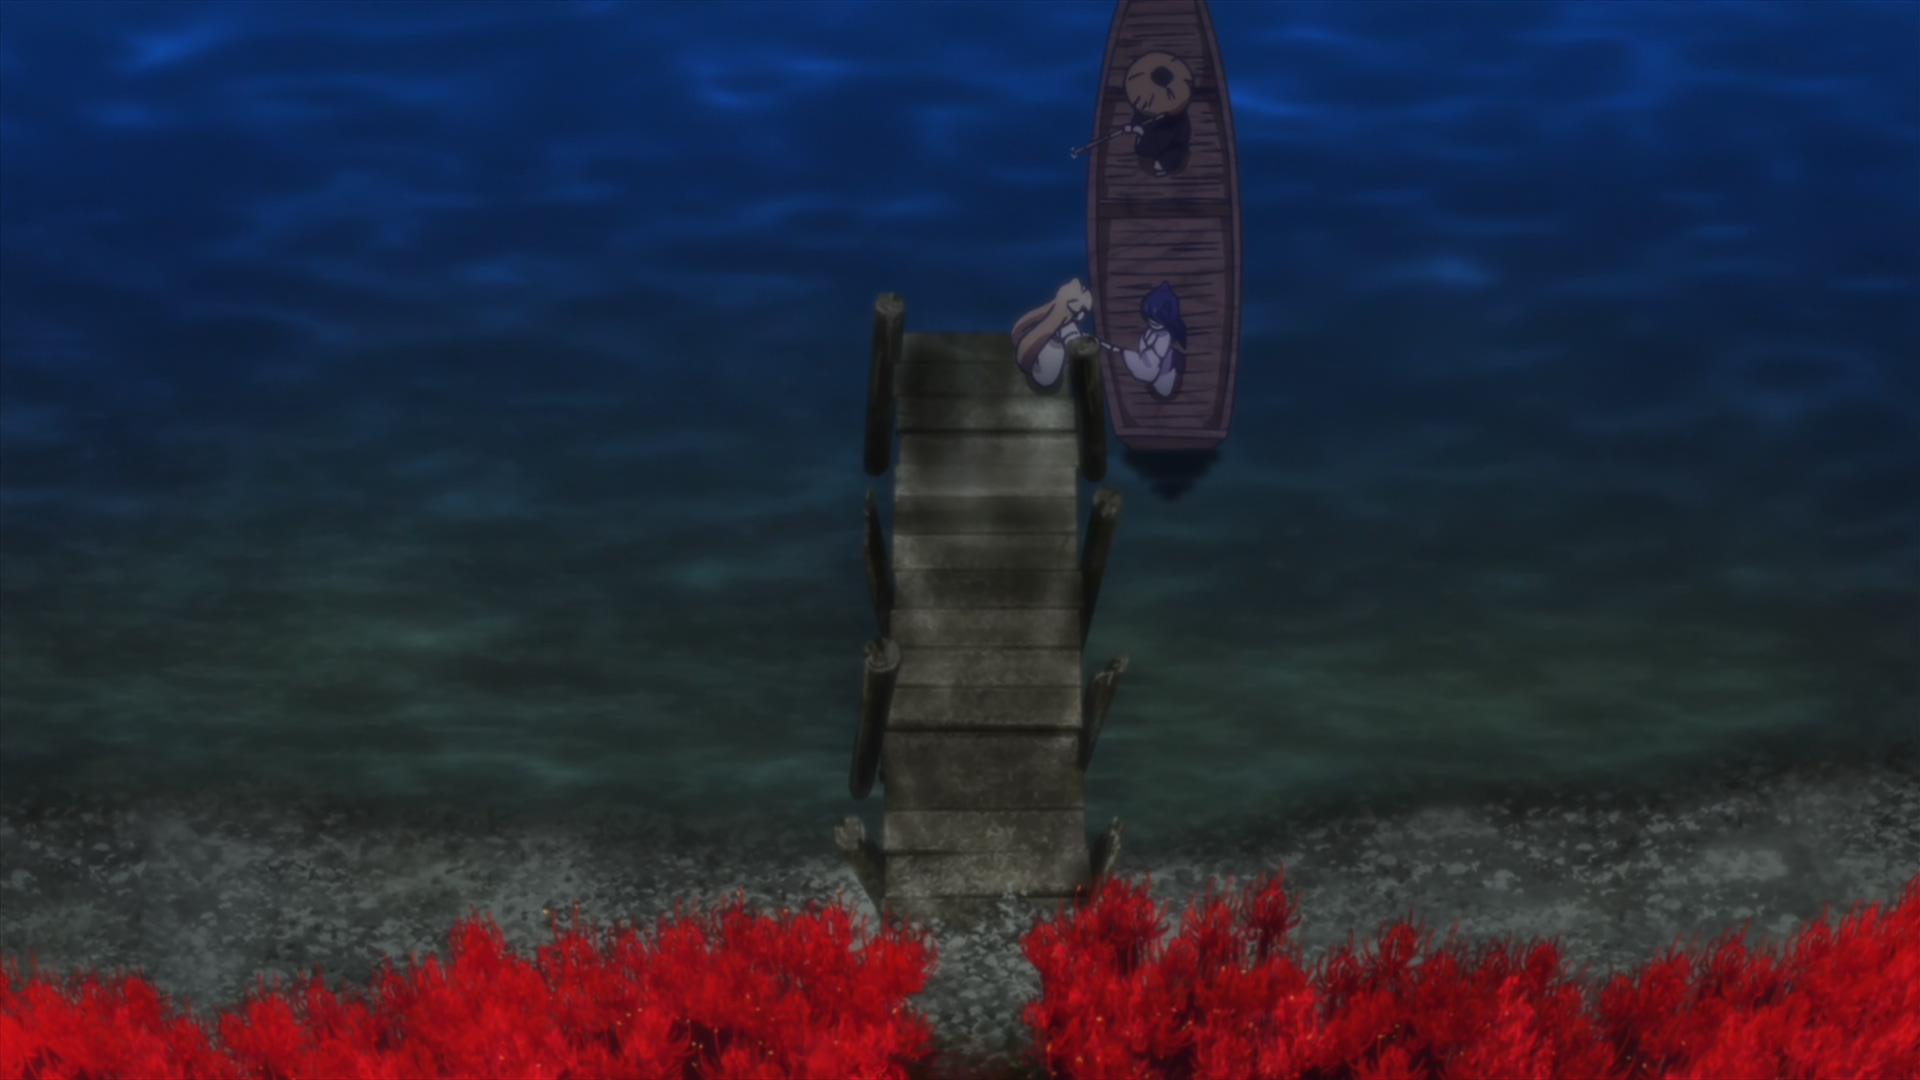其他: (1124, 47, 1195, 179)
柚: (1011, 276, 1095, 388)
皋: (1117, 280, 1189, 401)
